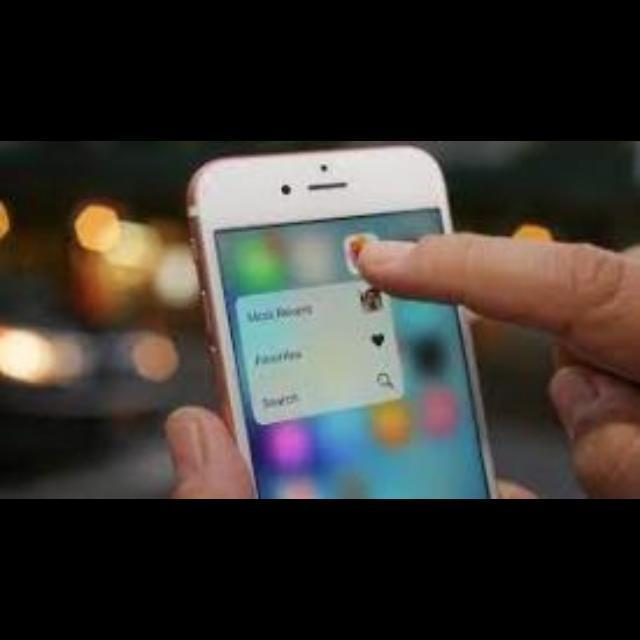PhoneUse: (186, 155, 494, 499)
